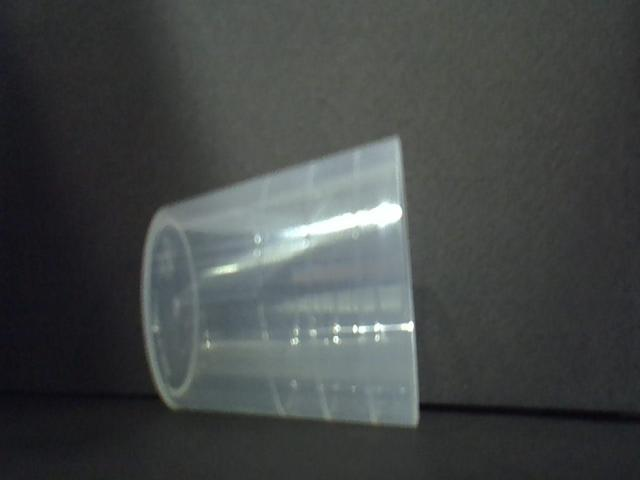cup: (138, 126, 430, 434)
